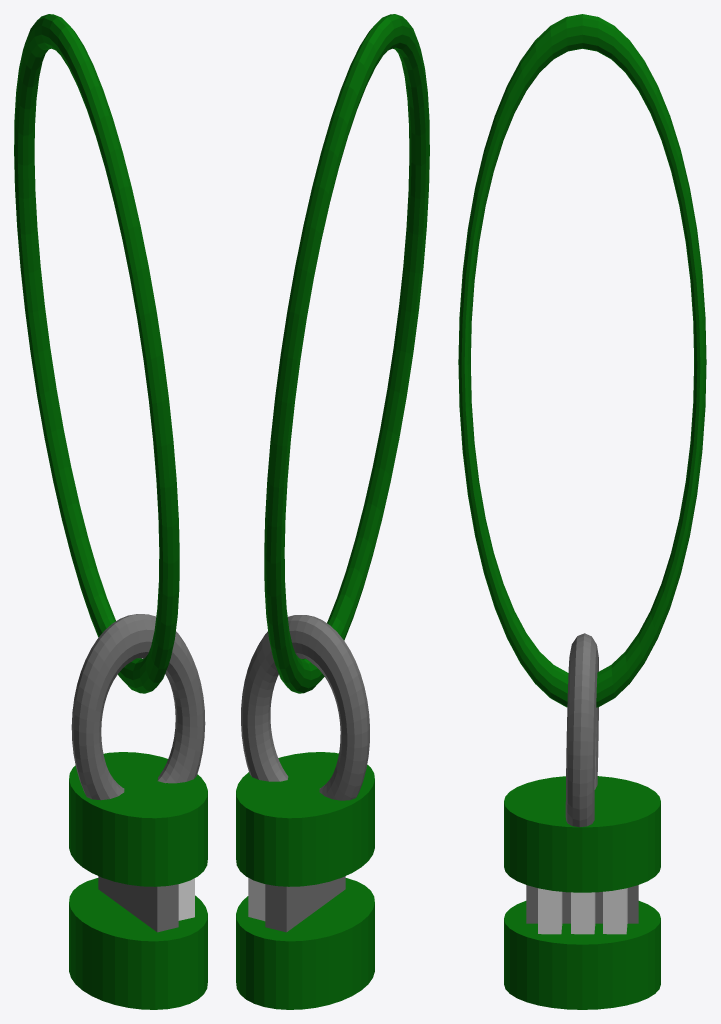
File: greenlock.fbx
The picture shows the model from 3 angles, left to right: view 1: azimuth 30°, elevation 25°; view 2: azimuth 150°, elevation 25°; view 3: azimuth 270°, elevation 25°; orthographic projection. The views are drawn at different scales.
Visible parts, largest first — view 1: Torus.002, Cylinder, Cylinder.001, Torus.001, Cube.002, Cube.003; view 2: Torus.002, Cylinder, Cylinder.001, Torus.001, Cube.002, Cube.005; view 3: Torus.002, Cylinder, Cylinder.001, Torus.001, Cube.002, Cube.005, Cube.003, Cube.004.
Boxes of the visible parts, x1=… form: Torus.002: x1=14, y1=14, x2=179, y2=693; Cylinder: x1=69, y1=752, x2=207, y2=886; Cylinder.001: x1=69, y1=878, x2=207, y2=1009; Torus.001: x1=71, y1=614, x2=205, y2=800; Cube.002: x1=98, y1=876, x2=178, y2=932; Cube.003: x1=178, y1=878, x2=194, y2=920; Torus.002: x1=264, y1=14, x2=429, y2=693; Cylinder: x1=236, y1=752, x2=374, y2=886; Cylinder.001: x1=236, y1=878, x2=374, y2=1009; Torus.001: x1=241, y1=615, x2=369, y2=800; Cube.002: x1=265, y1=876, x2=345, y2=932; Cube.005: x1=248, y1=878, x2=265, y2=921; Torus.002: x1=458, y1=14, x2=706, y2=707; Cylinder: x1=504, y1=776, x2=660, y2=892; Cylinder.001: x1=504, y1=901, x2=660, y2=1009; Torus.001: x1=565, y1=633, x2=598, y2=827; Cube.002: x1=526, y1=885, x2=638, y2=923; Cube.005: x1=603, y1=888, x2=627, y2=934; Cube.003: x1=538, y1=888, x2=562, y2=934; Cube.004: x1=571, y1=892, x2=595, y2=934.
Bounding box in the file's own units: 34.79 × 213 × 51.42.
